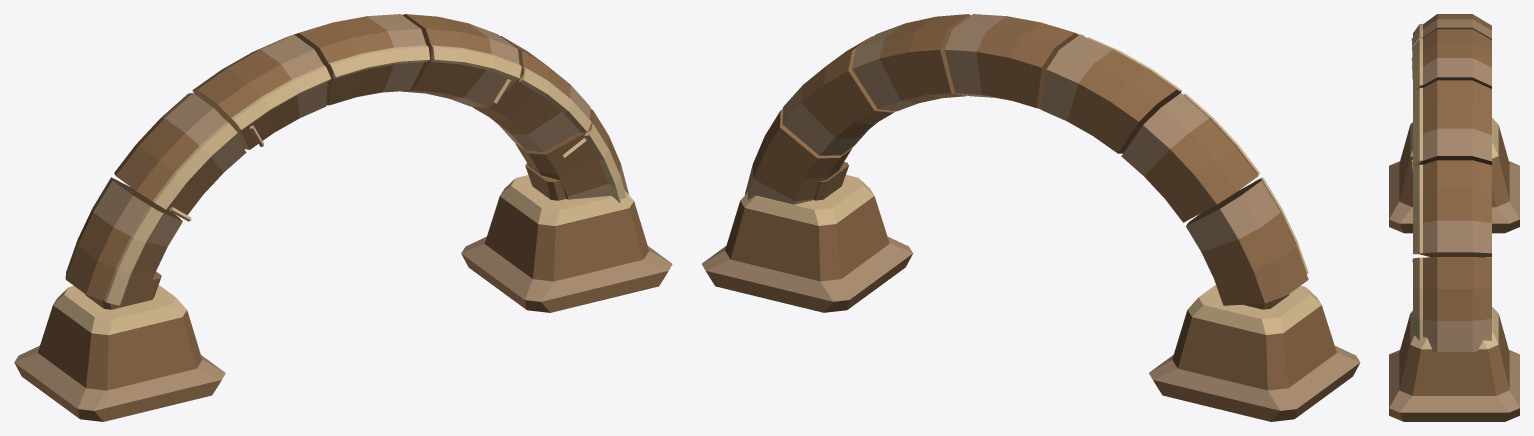
The model's file is garden-arcade.glb.
3 renders of one model, left to right at view 1: azimuth 30°, elevation 25°; view 2: azimuth 150°, elevation 25°; view 3: azimuth 270°, elevation 25°, orthographic. The views are drawn at different scales.
Parts seen in each view (by area): view 1: garden-arcade; view 2: garden-arcade; view 3: garden-arcade.
Boxes of the visible parts, box(x1,y1,x2,y2) form: garden-arcade: box(14, 14, 672, 421); garden-arcade: box(702, 14, 1360, 421); garden-arcade: box(1389, 14, 1519, 421).
Bounding box in the file's own units: 9.81 × 4.67 × 2.16.
